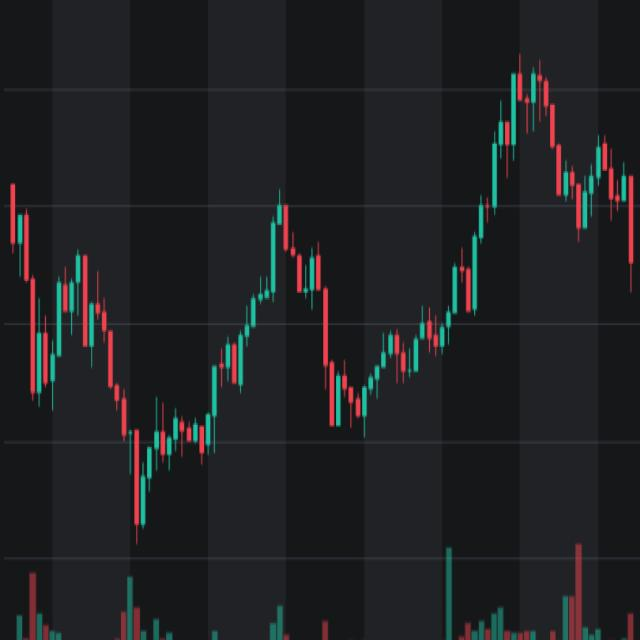Channel-up: (306, 19, 564, 515), (124, 143, 300, 589)
